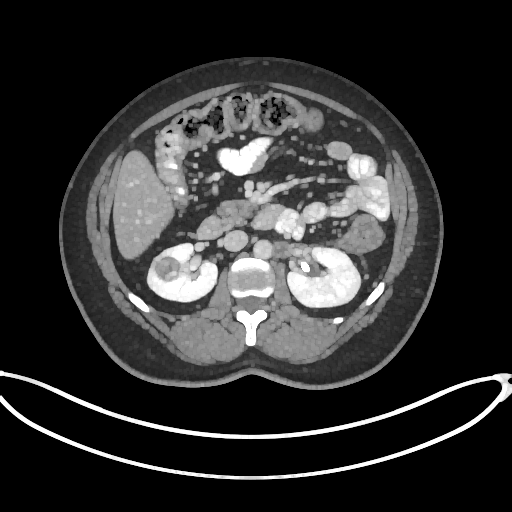Lesion: (152, 254, 184, 285)
